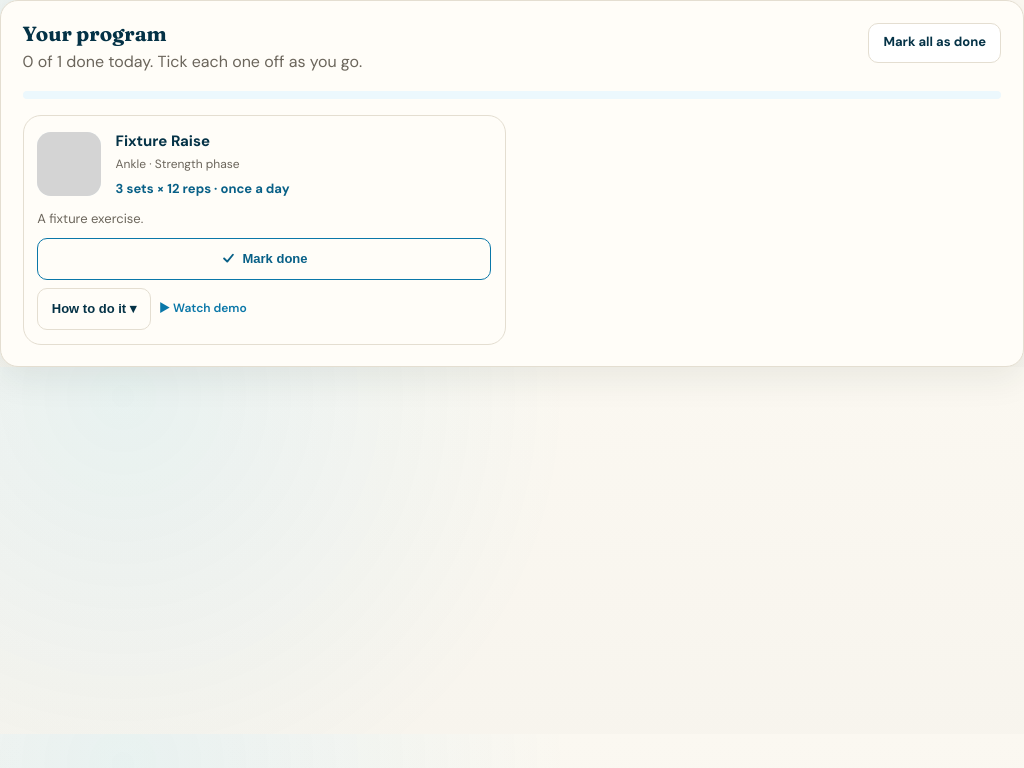
Test: AssignedExercises › reveals setup / steps / cues / mistakes on "How to do it"
expect the text "Fixture Raise" is shown: met, box [116, 131, 210, 151]
expect the text "Rise onto your toes" is not shown: met
Step 1. Click the button "How to do it ▾" → [94, 309], box [37, 288, 151, 330]
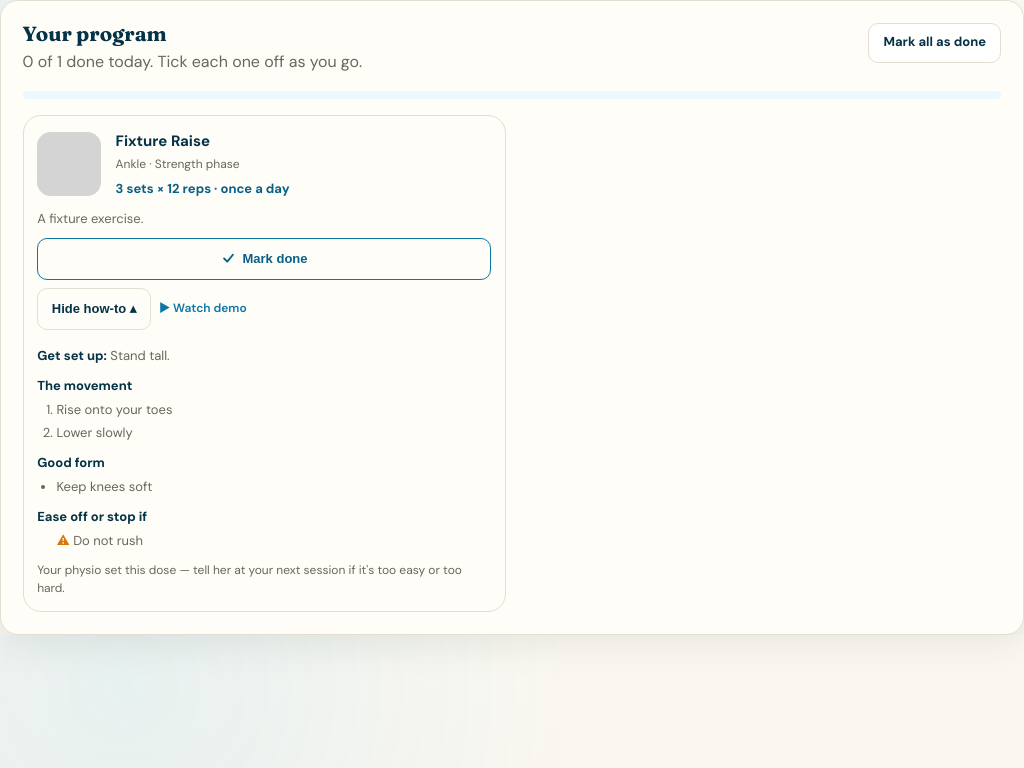
expect the text "Stand tall." is shown: met, box [110, 347, 170, 364]
expect the list item "Rise onto your toes" is shown: met, box [56, 401, 172, 418]
expect the list item "Keep knees soft" is shown: met, box [56, 478, 152, 495]
